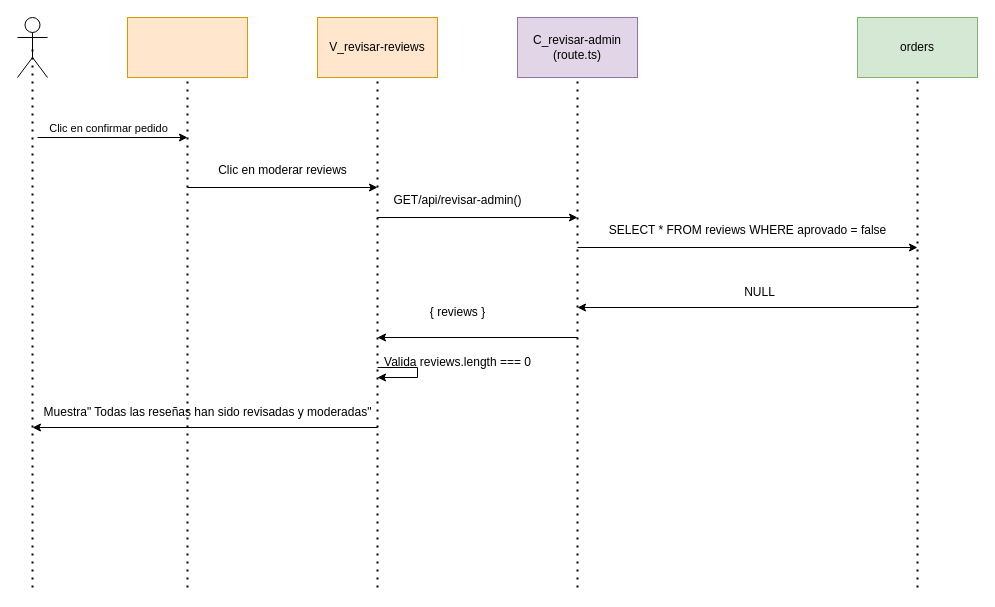
Image size: 995x607. Some labels were removed from this diagram. Each missing label, with the centre of its shape:
"Actor" goes at (x=32, y=47).
"V_pagina-admin" goes at (x=187, y=47).
